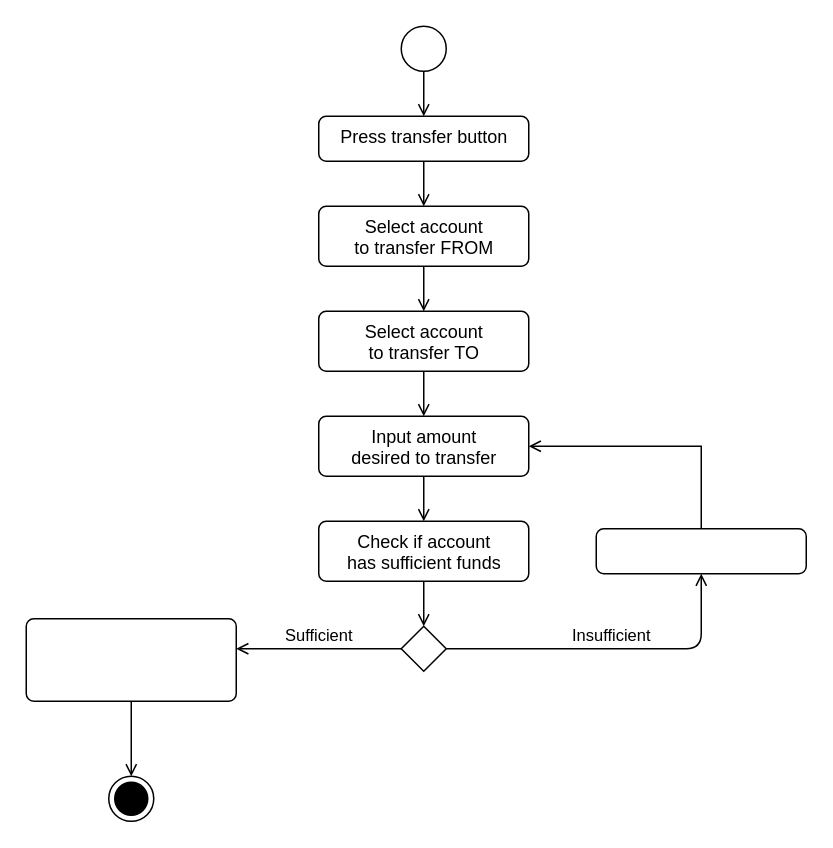
Image size: 833x848. Some labels were removed from this diagram. The box of each missing label's shape, as (x1, y1, x2, y2) in pixels:
Move specified amount from one acocunt to another: (25, 617, 236, 701)
Throw error: (595, 527, 806, 574)
